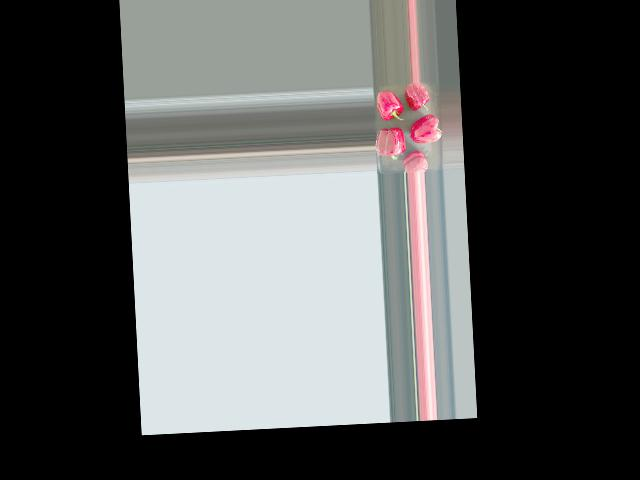bell_pepper: (401, 149, 433, 172)
